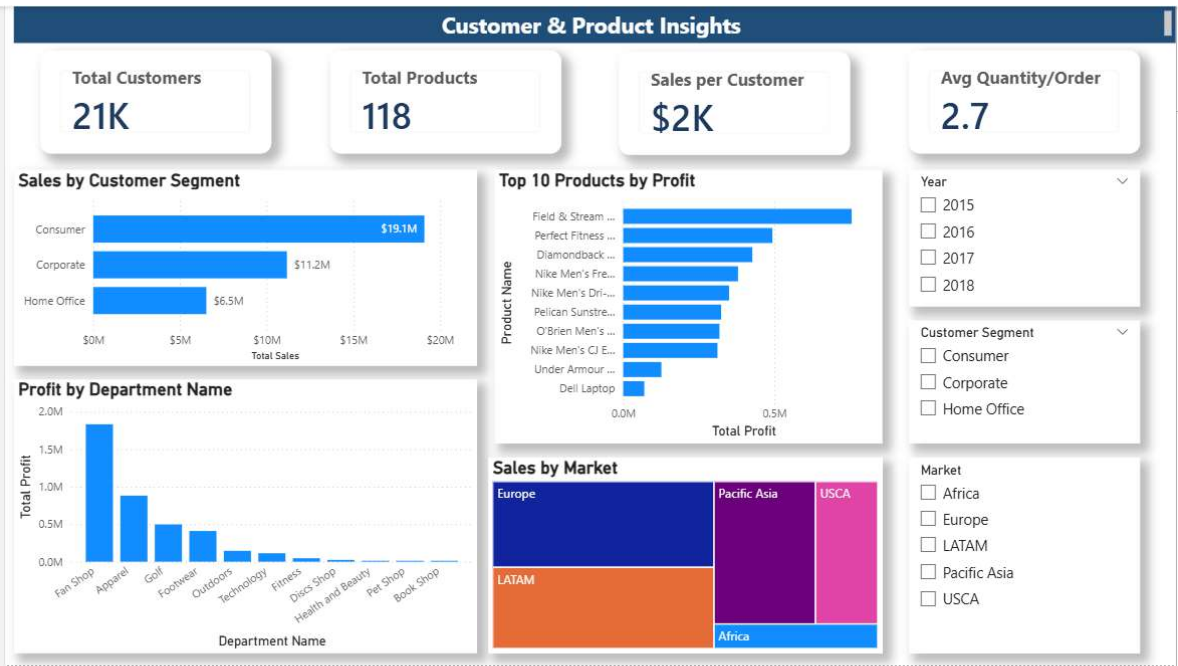

The page's visual inventory and layout, read from the dashboard file:
{"tool":"powerbi","page":{"name":"Customer & Product Insights","canvas":[1280,720],"ordinal":2},"visuals":[{"type":"shape","box":[10,0,1270,40],"z":0},{"type":"textbox","box":[9.6,0,1270.7,39.8],"z":1},{"type":"cardVisual","fields":{"Data":["Measure Table.Total Customers"]},"box":[38.4,48,252.5,112.5],"z":7000,"group":"g1"},{"type":"cardVisual","fields":{"Data":["Measure Table.Total Products"]},"box":[355.4,48,252.5,112.5],"z":7000,"group":"g1"},{"type":"cardVisual","fields":{"Data":["Measure Table.Avg Quantity per Order"]},"box":[988,48,252.5,112.5],"z":7000,"group":"g1"},{"type":"cardVisual","fields":{"Data":["Measure Table.Sales per Customer"]},"box":[671,49.4,252.5,112.5],"z":7000,"group":"g1"},{"type":"clusteredBarChart","title":" Sales by Customer Segment","fields":{"Category":["Dim_Customers.Customer Segment"],"Y":["Measure Table.Total Sales"]},"box":[9.6,178.4,506.3,214.1],"z":7001,"group":"g1"},{"type":"clusteredBarChart","title":"Top 10 Products by Profit","fields":{"Category":["Dim_Products.Product Name"],"Y":["Measure Table.Total Profit"]},"box":[535.2,178.4,424,299.1],"z":7002,"group":"g1"},{"type":"clusteredColumnChart","title":" Profit by Department Name","fields":{"Y":["Measure Table.Total Profit"],"Category":["Dim_Products.Department Name"]},"box":[9.6,407.5,506.3,299.1],"z":7003,"group":"g1"},{"type":"treemap","title":"Sales by Market","fields":{"Group":["Fact_Orders.Market"],"Values":["Measure Table.Total Sales"]},"box":[528.3,492.6,430.9,214.1],"z":7004,"group":"g1"},{"type":"slicer","fields":{"Values":["Dim_Date.Year"]},"box":[988,178.4,252.5,149.6],"z":7005,"group":"g1"},{"type":"slicer","fields":{"Values":["Dim_Customers.Customer Segment"]},"box":[988,343,252.5,134.5],"z":7006,"group":"g1"},{"type":"slicer","fields":{"Values":["Fact_Orders.Market"]},"box":[988,492.6,252.5,214.1],"z":7007,"group":"g1"},{"type":"group","id":"g1","title":"Group 1","box":[9.6,48,1230.9,658.7],"z":7008}]}

Visuals, with their boxes in screenshot pixels (x1, y1, x2, y2), scaled from the page's 1280x720 canvas onto the 1178x666 screenshot:
shape: (x1=9, y1=0, x2=1177, y2=37)
textbox: (x1=9, y1=0, x2=1177, y2=37)
cardVisual - Measure Table.Total Customers: (x1=35, y1=44, x2=268, y2=148)
cardVisual - Measure Table.Total Products: (x1=327, y1=44, x2=559, y2=148)
cardVisual - Measure Table.Avg Quantity per Order: (x1=909, y1=44, x2=1142, y2=148)
cardVisual - Measure Table.Sales per Customer: (x1=618, y1=46, x2=850, y2=150)
" Sales by Customer Segment" clusteredBarChart: (x1=9, y1=165, x2=475, y2=363)
"Top 10 Products by Profit" clusteredBarChart: (x1=493, y1=165, x2=883, y2=442)
" Profit by Department Name" clusteredColumnChart: (x1=9, y1=377, x2=475, y2=654)
"Sales by Market" treemap: (x1=486, y1=456, x2=883, y2=654)
slicer - Dim_Date.Year: (x1=909, y1=165, x2=1142, y2=303)
slicer - Dim_Customers.Customer Segment: (x1=909, y1=317, x2=1142, y2=442)
slicer - Fact_Orders.Market: (x1=909, y1=456, x2=1142, y2=654)
"Group 1" group: (x1=9, y1=44, x2=1142, y2=654)
